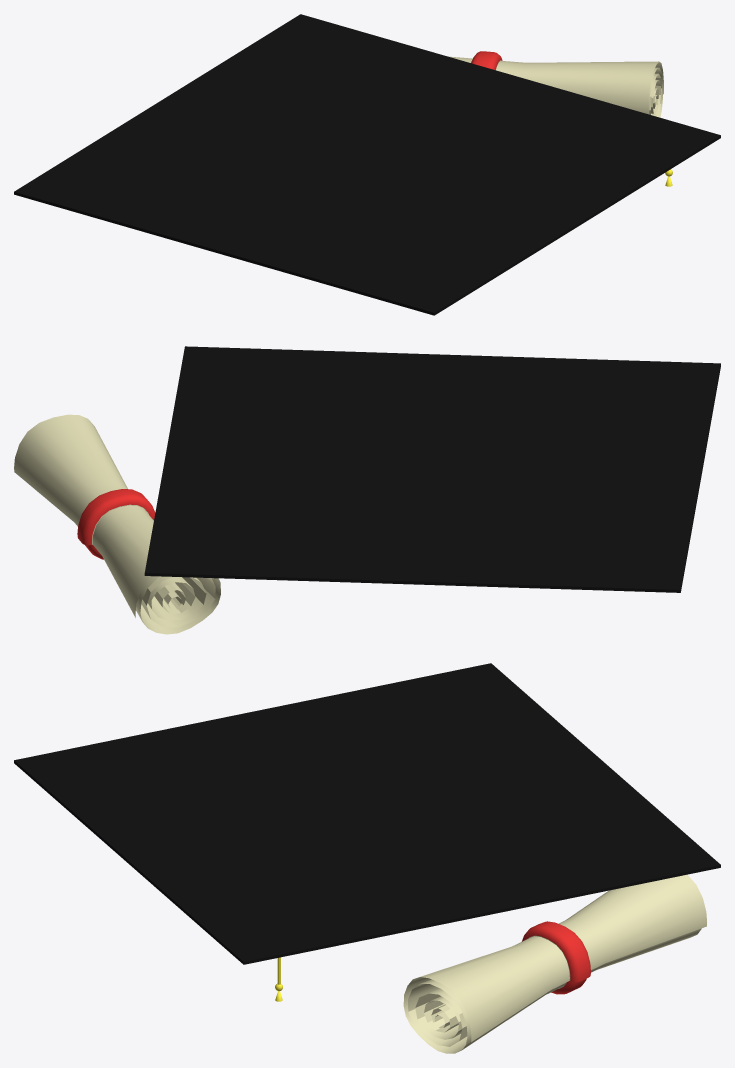
File: Degree.glb
The picture shows the model from 3 angles, top to bottom: view 1: azimuth 30°, elevation 25°; view 2: azimuth 150°, elevation 25°; view 3: azimuth 270°, elevation 25°; orthographic projection. The views are drawn at different scales.
Parts seen in each view (by area): view 1: Cone; view 2: Cone; view 3: Cone.
Boxes of the visible parts, box(x1,y1,x2,y2) form: Cone: box(14, 14, 720, 315); Cone: box(14, 346, 720, 634); Cone: box(14, 663, 720, 1053).
Bounding box in the file's own units: 1.18 × 0.1323 × 1.09.
